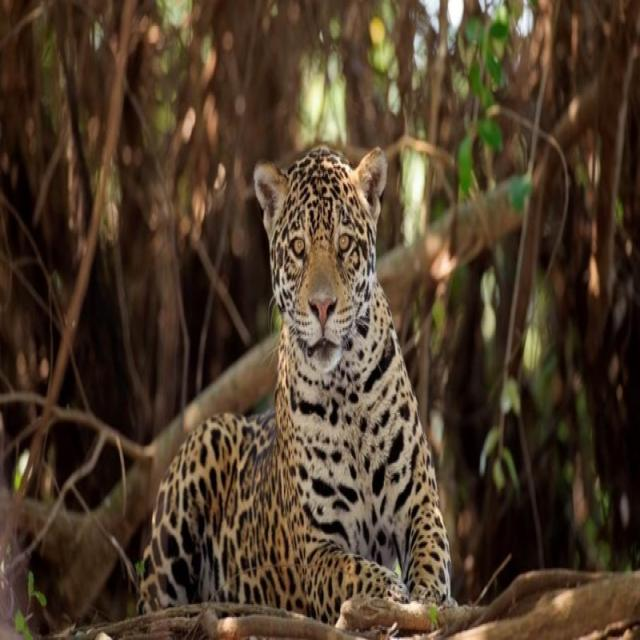Jaguar: (140, 146, 454, 622)
